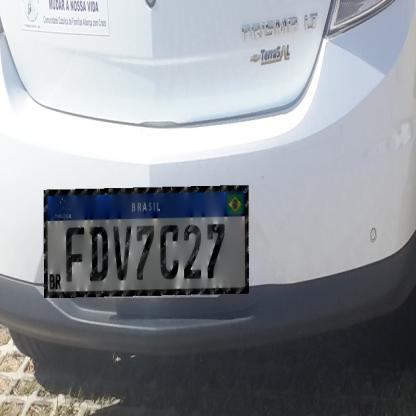PlacaM: (44, 185, 249, 298)
